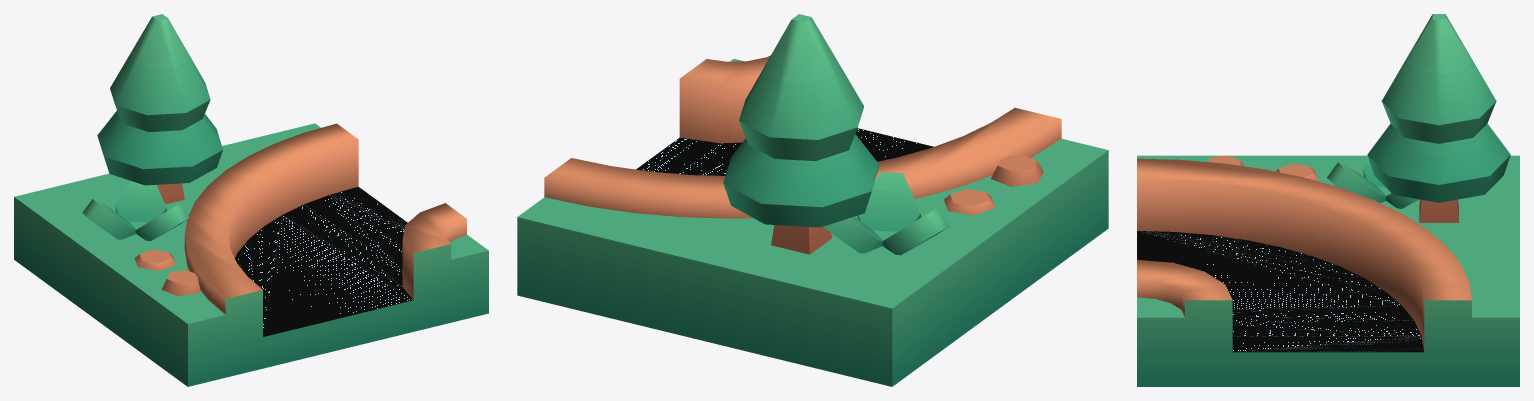
The model's file is kenney-tower-defense-tile-river-corner.glb.
3 views of the same model, side by side, from view 1: azimuth 30°, elevation 25°; view 2: azimuth 150°, elevation 25°; view 3: azimuth 270°, elevation 25° (orthographic). The views are drawn at different scales.
Parts seen in each view (by area): view 1: tile-river-corner; view 2: tile-river-corner; view 3: tile-river-corner.
Part boxes in pixels (x1,y1,x2,y2): tile-river-corner: (14,14,488,386); tile-river-corner: (517,14,1108,386); tile-river-corner: (1137,14,1519,386).
Bounding box in the file's own units: 1 × 0.77 × 1.
Materials: 1 (1 with a texture image).
